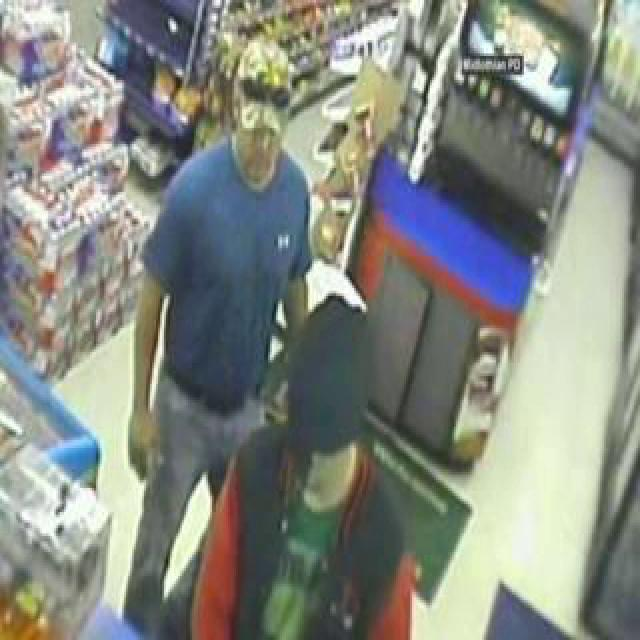arrest: (94, 3, 433, 640)
